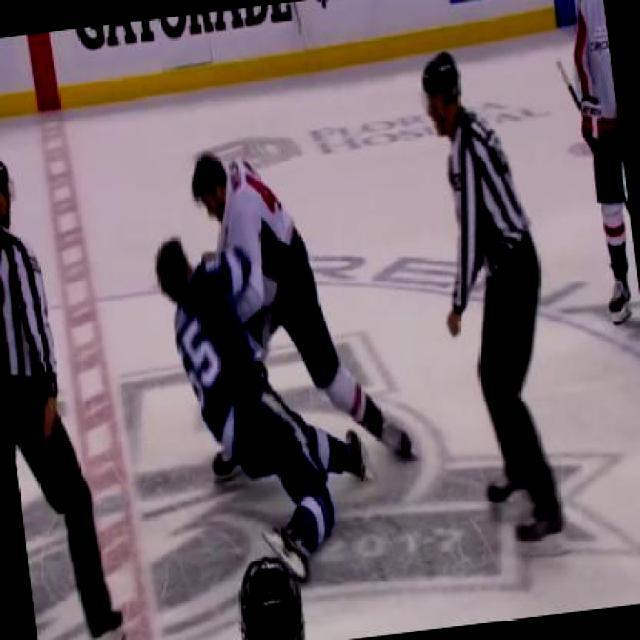fight: (138, 132, 412, 540)
non-fight: (410, 42, 573, 550)
